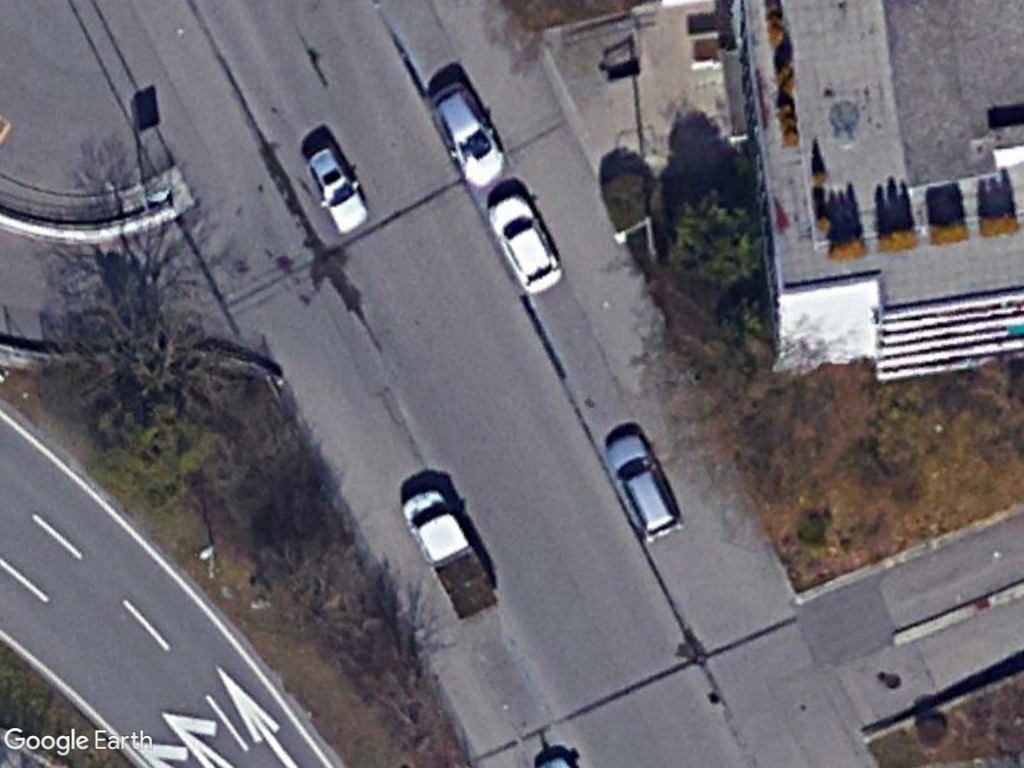car: (424, 79, 508, 191), (603, 431, 683, 543), (488, 191, 569, 297), (303, 144, 372, 239)
others: (402, 487, 502, 627)
